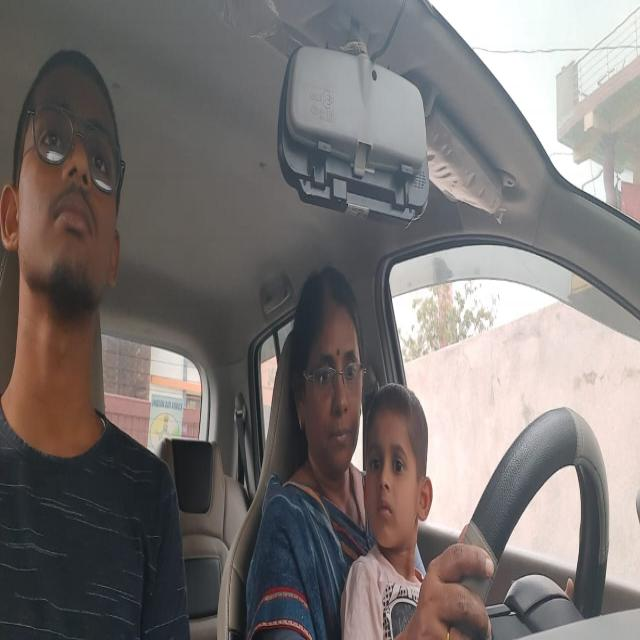child: (360, 394, 434, 544)
person: (5, 58, 124, 310), (290, 272, 362, 484)
